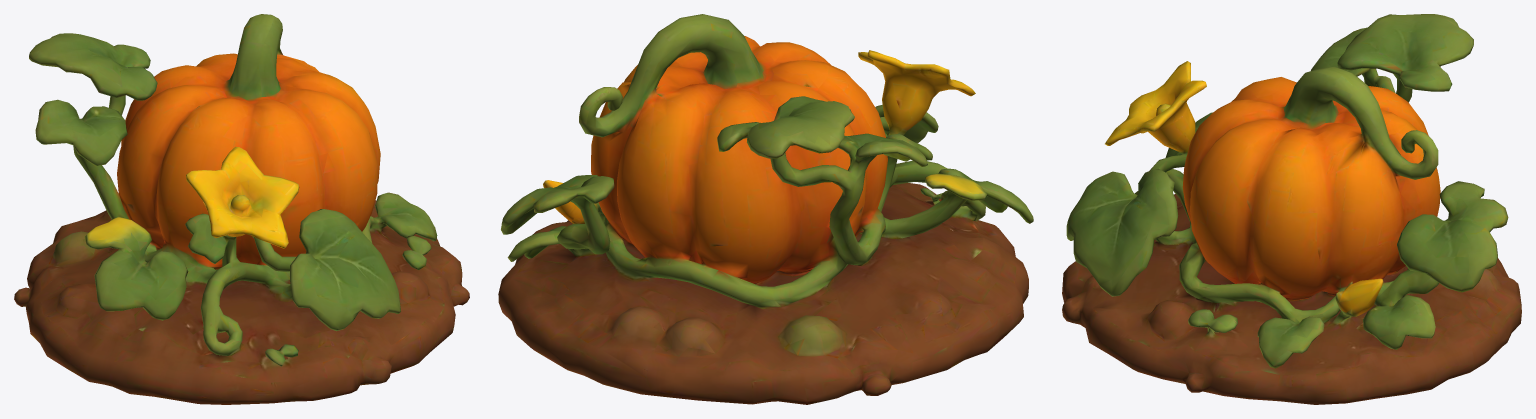
3 views of the same model, side by side, from view 1: azimuth 30°, elevation 25°; view 2: azimuth 150°, elevation 25°; view 3: azimuth 270°, elevation 25° (orthographic). The views are drawn at different scales.
Visible parts, largest first — view 1: pumpkin-ready; view 2: pumpkin-ready; view 3: pumpkin-ready.
Part boxes in pixels (bbox=[...]): pumpkin-ready: bbox=[14, 14, 469, 404]; pumpkin-ready: bbox=[498, 14, 1033, 404]; pumpkin-ready: bbox=[1062, 14, 1521, 404].
Size of the model in its own units: 0.7897 by 0.4939 by 0.7928.
Materials: 1 (1 with a texture image).
